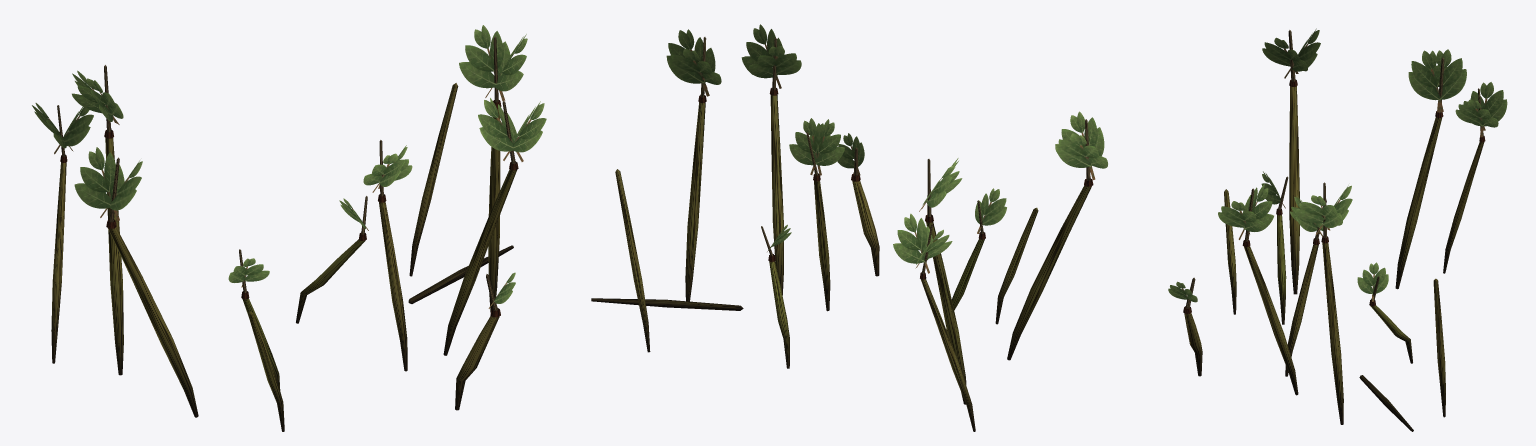
File: seedlings.glb
3 renders of one model, left to right at view 1: azimuth 30°, elevation 25°; view 2: azimuth 150°, elevation 25°; view 3: azimuth 270°, elevation 25°, orthographic. The views are drawn at different scales.
Visible parts, largest first — view 1: wood, leaves; view 2: wood, leaves; view 3: wood, leaves.
Part boxes in pixels (x1=…): wood: x1=51, y1=36, x2=518, y2=431; leaves: x1=32, y1=25, x2=546, y2=308; wood: x1=591, y1=37, x2=1093, y2=431; leaves: x1=666, y1=24, x2=1107, y2=273; wood: x1=1183, y1=30, x2=1485, y2=431; leaves: x1=1168, y1=28, x2=1507, y2=302.
Bounding box in the file's own units: 1.09 × 0.5829 × 0.807.
Materials: 2 (2 with a texture image).
